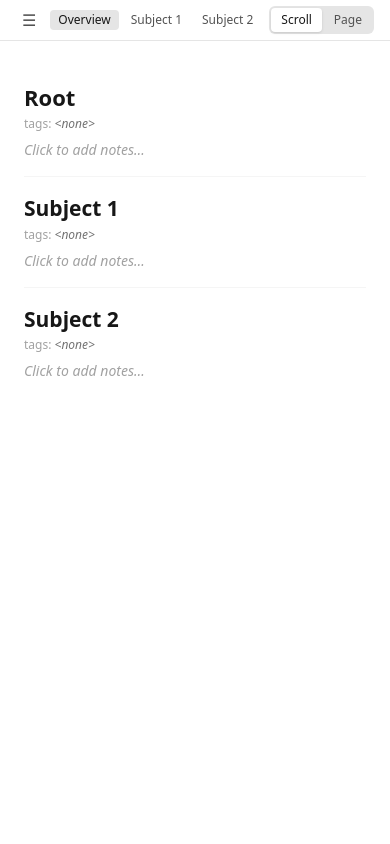
Notelets container › mobile ToC drawer › Esc closes the drawer
Click the button named "Show table of contents" at [29, 20], box [16, 6, 42, 34]
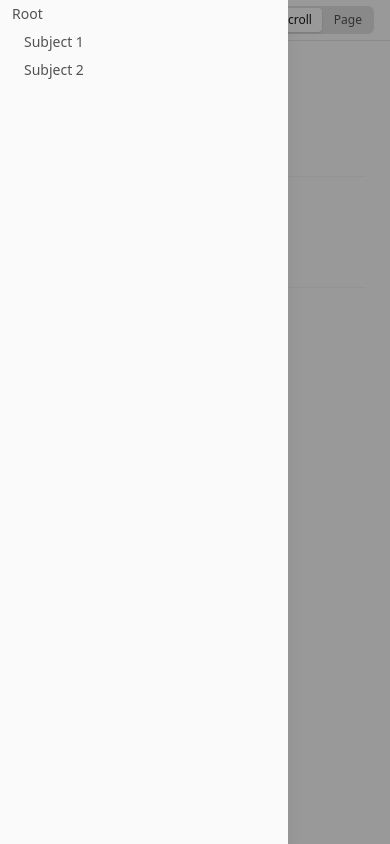
Press Escape
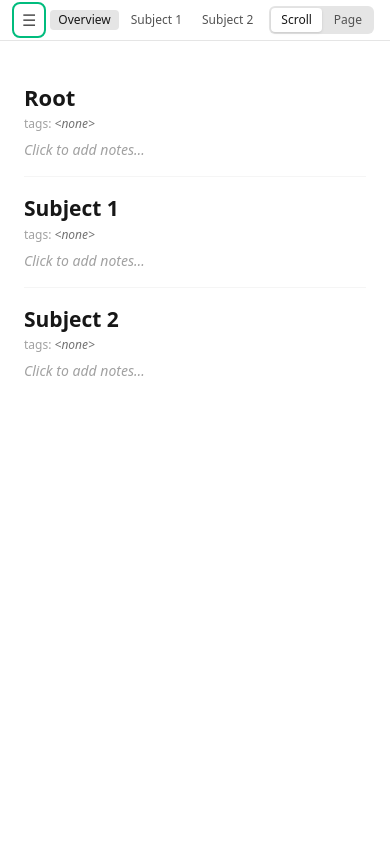
Expected: the dialog is gone
